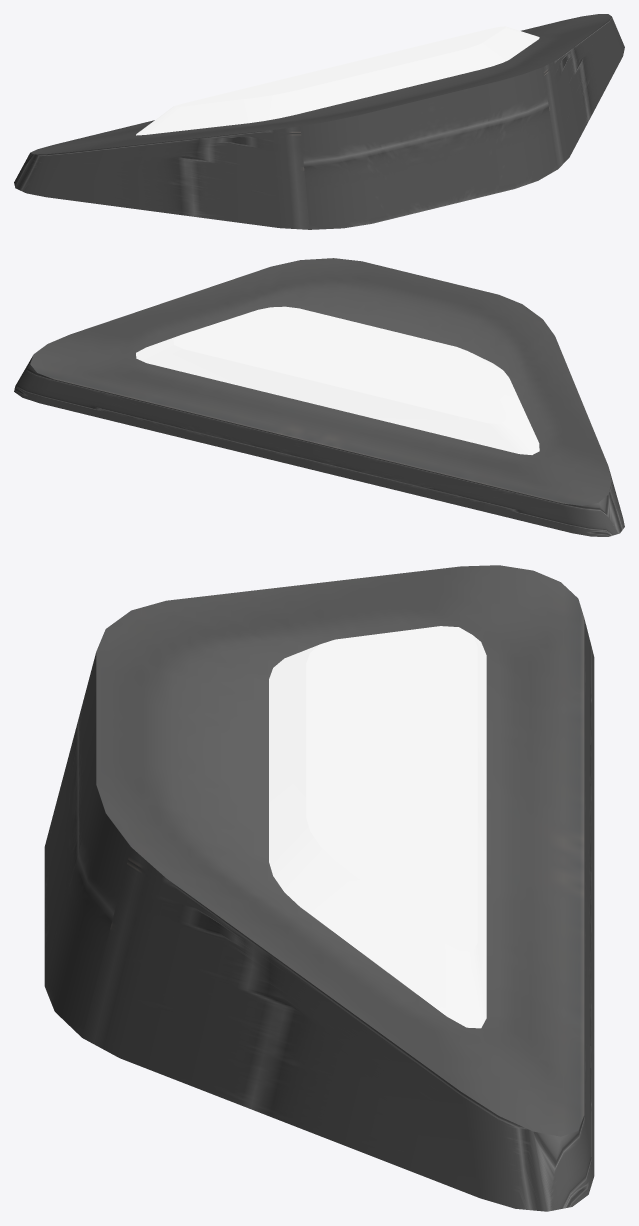
File: Prop_Light_Floor.gltf
The picture shows the model from 3 angles, top to bottom: view 1: azimuth 30°, elevation 25°; view 2: azimuth 150°, elevation 25°; view 3: azimuth 270°, elevation 25°; orthographic projection. The views are drawn at different scales.
Visible parts, largest first — view 1: Prop_Light_Floor; view 2: Prop_Light_Floor; view 3: Prop_Light_Floor.
Part boxes in pixels (<box>): Prop_Light_Floor: <box>14,14,624,229</box>; Prop_Light_Floor: <box>14,258,624,536</box>; Prop_Light_Floor: <box>44,565,594,1211</box>.
Bounding box in the file's own units: 1.33 × 0.209 × 0.5246.
2 materials, 1 textured.
